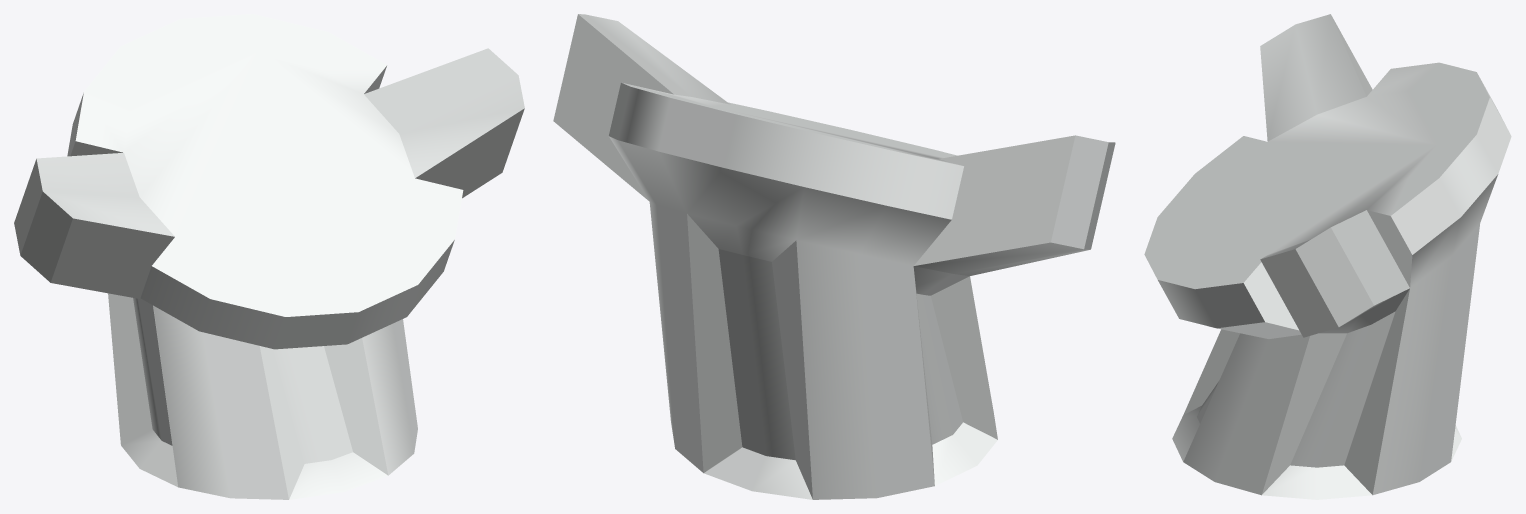
The model's file is cot 3.fbx.
The picture shows the model from 3 angles, left to right: view 1: azimuth 30°, elevation 25°; view 2: azimuth 150°, elevation 25°; view 3: azimuth 270°, elevation 25°; orthographic projection. The views are drawn at different scales.
Parts seen in each view (by area): view 1: cot_3; view 2: cot_3; view 3: cot_3.
Part boxes in pixels (x1,y1,x2,y2): cot_3: (14,14,524,499); cot_3: (553,14,1115,499); cot_3: (1144,14,1511,499).
Size of the model in its own units: 11 by 7.79 by 7.6.
Materials: 1 (1 with a texture image).
